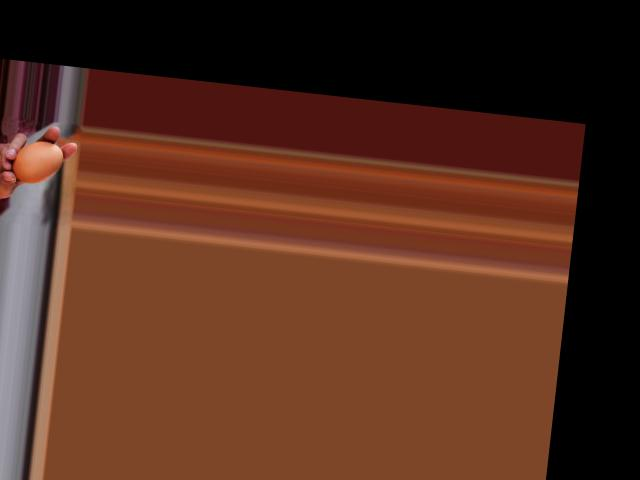egg: (11, 137, 64, 185)
